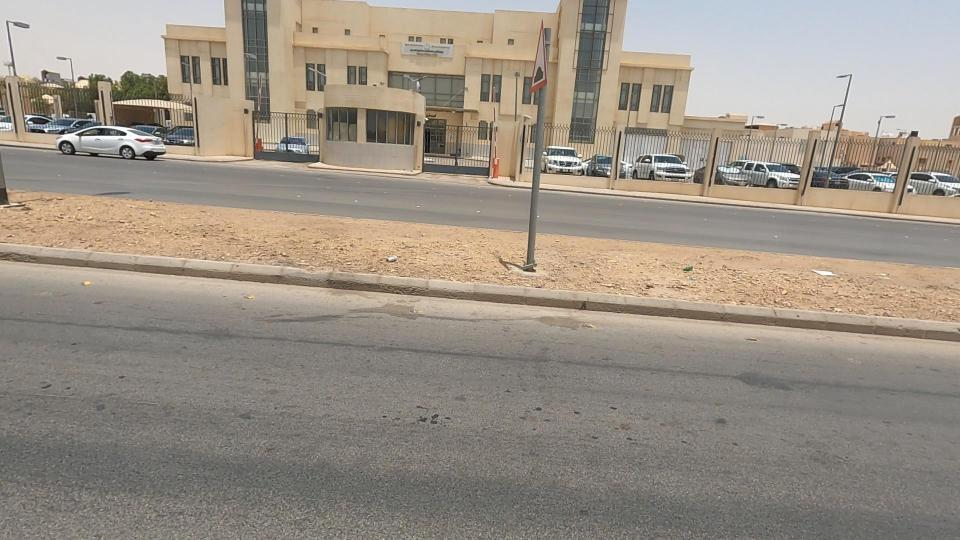CLUTTER_SIDEWALK: (0, 158, 560, 307), (501, 205, 915, 334)
GARBAGE: (361, 234, 422, 284), (666, 249, 718, 294), (796, 252, 848, 291)
